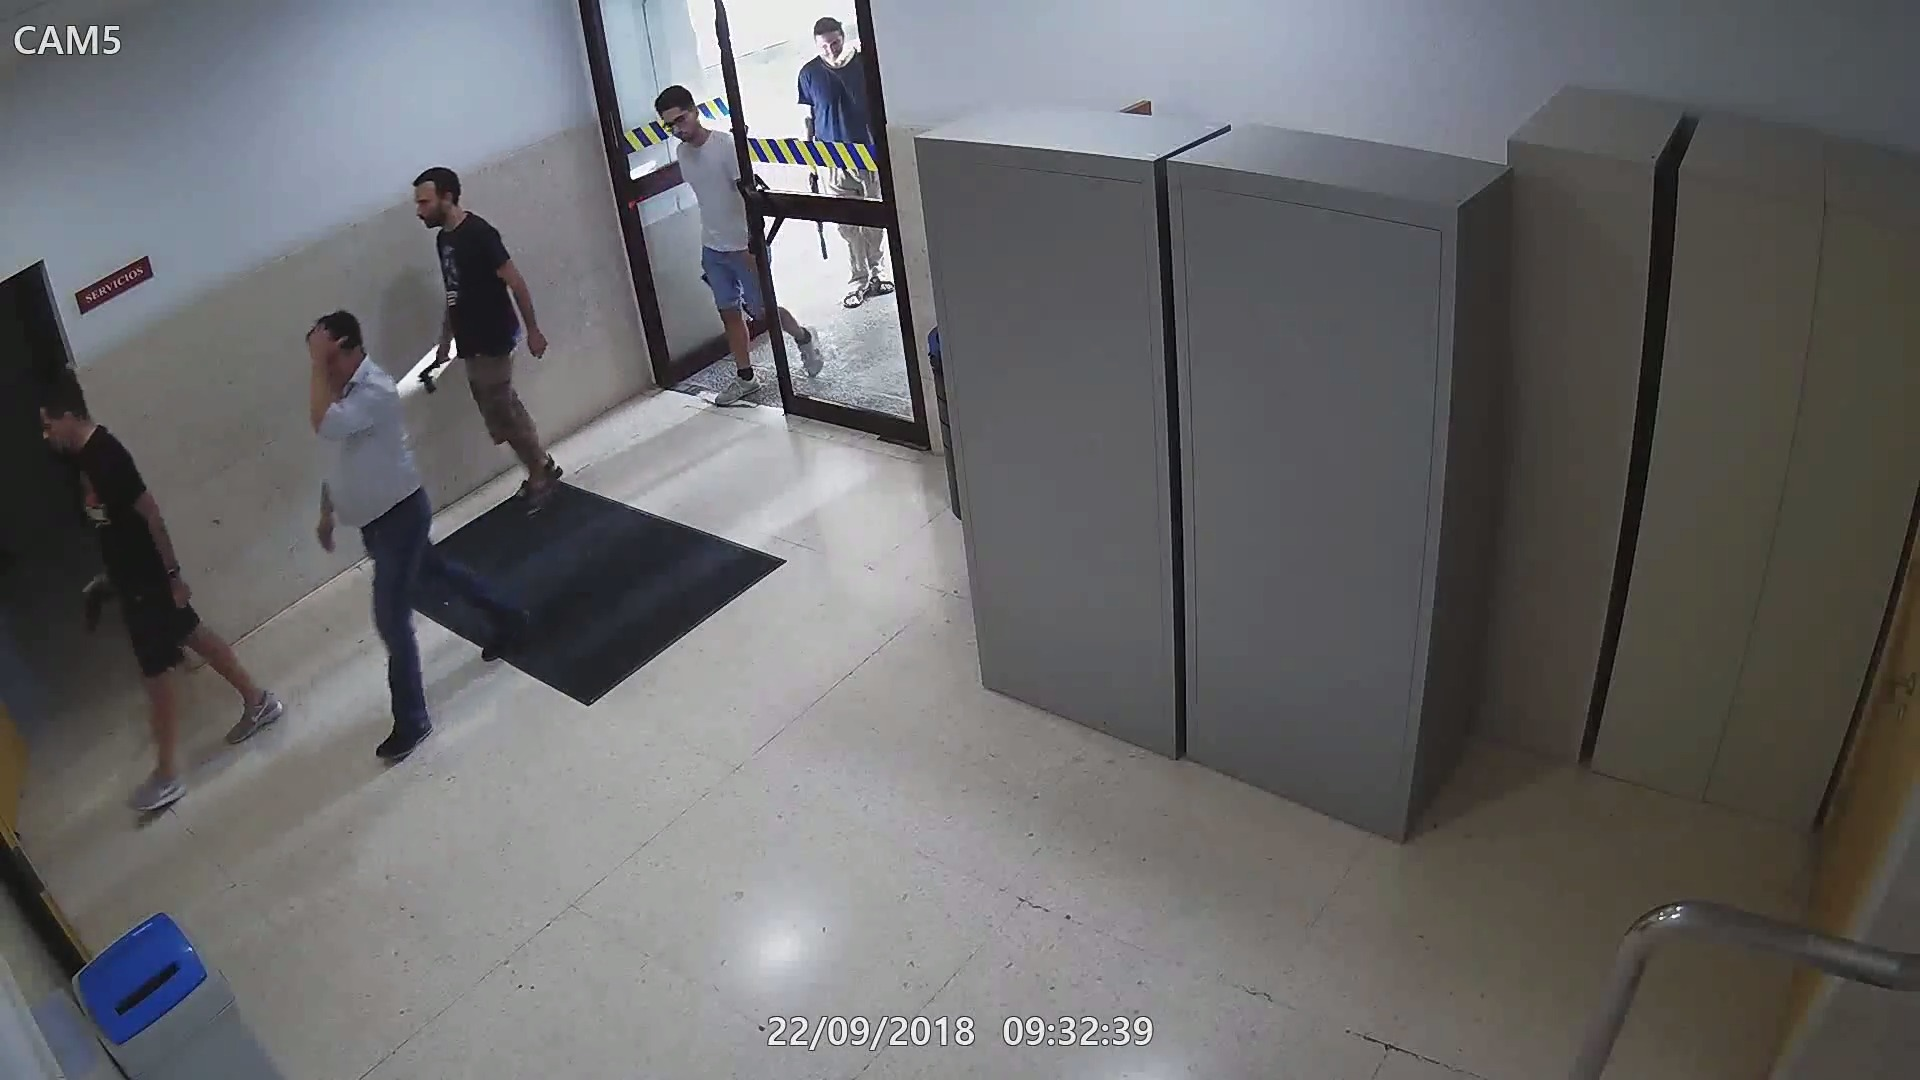Handgun: (80, 564, 115, 641), (417, 355, 454, 396)
Short_rifle: (800, 165, 831, 261)
